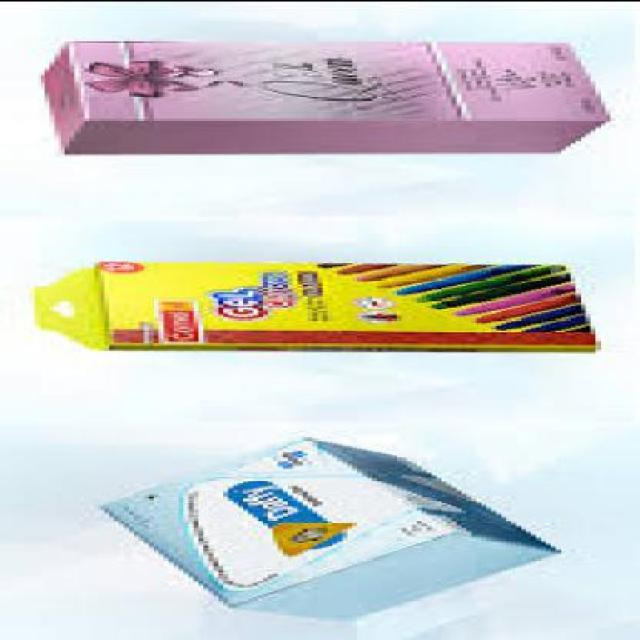CARDBOARD: (94, 440, 555, 622), (39, 43, 606, 154), (24, 264, 596, 350)
